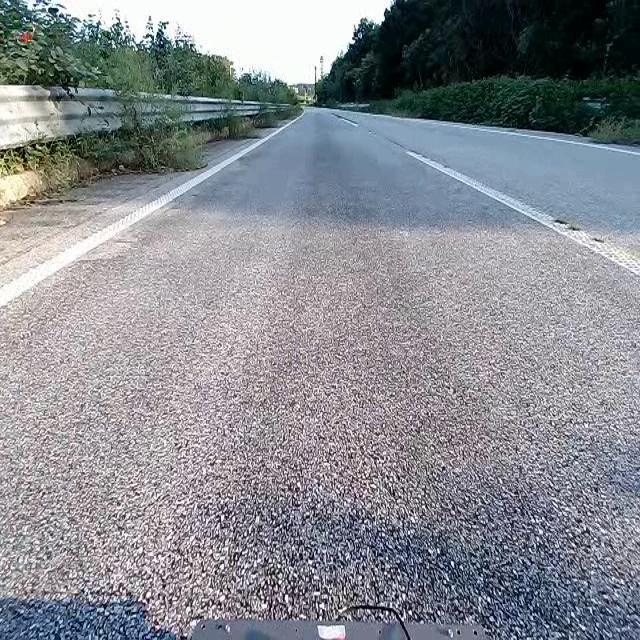Lane: (0, 100, 305, 318), (332, 95, 640, 288), (0, 118, 299, 310), (406, 150, 639, 276), (332, 113, 358, 125)
